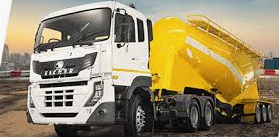truck: (22, 1, 274, 133)
